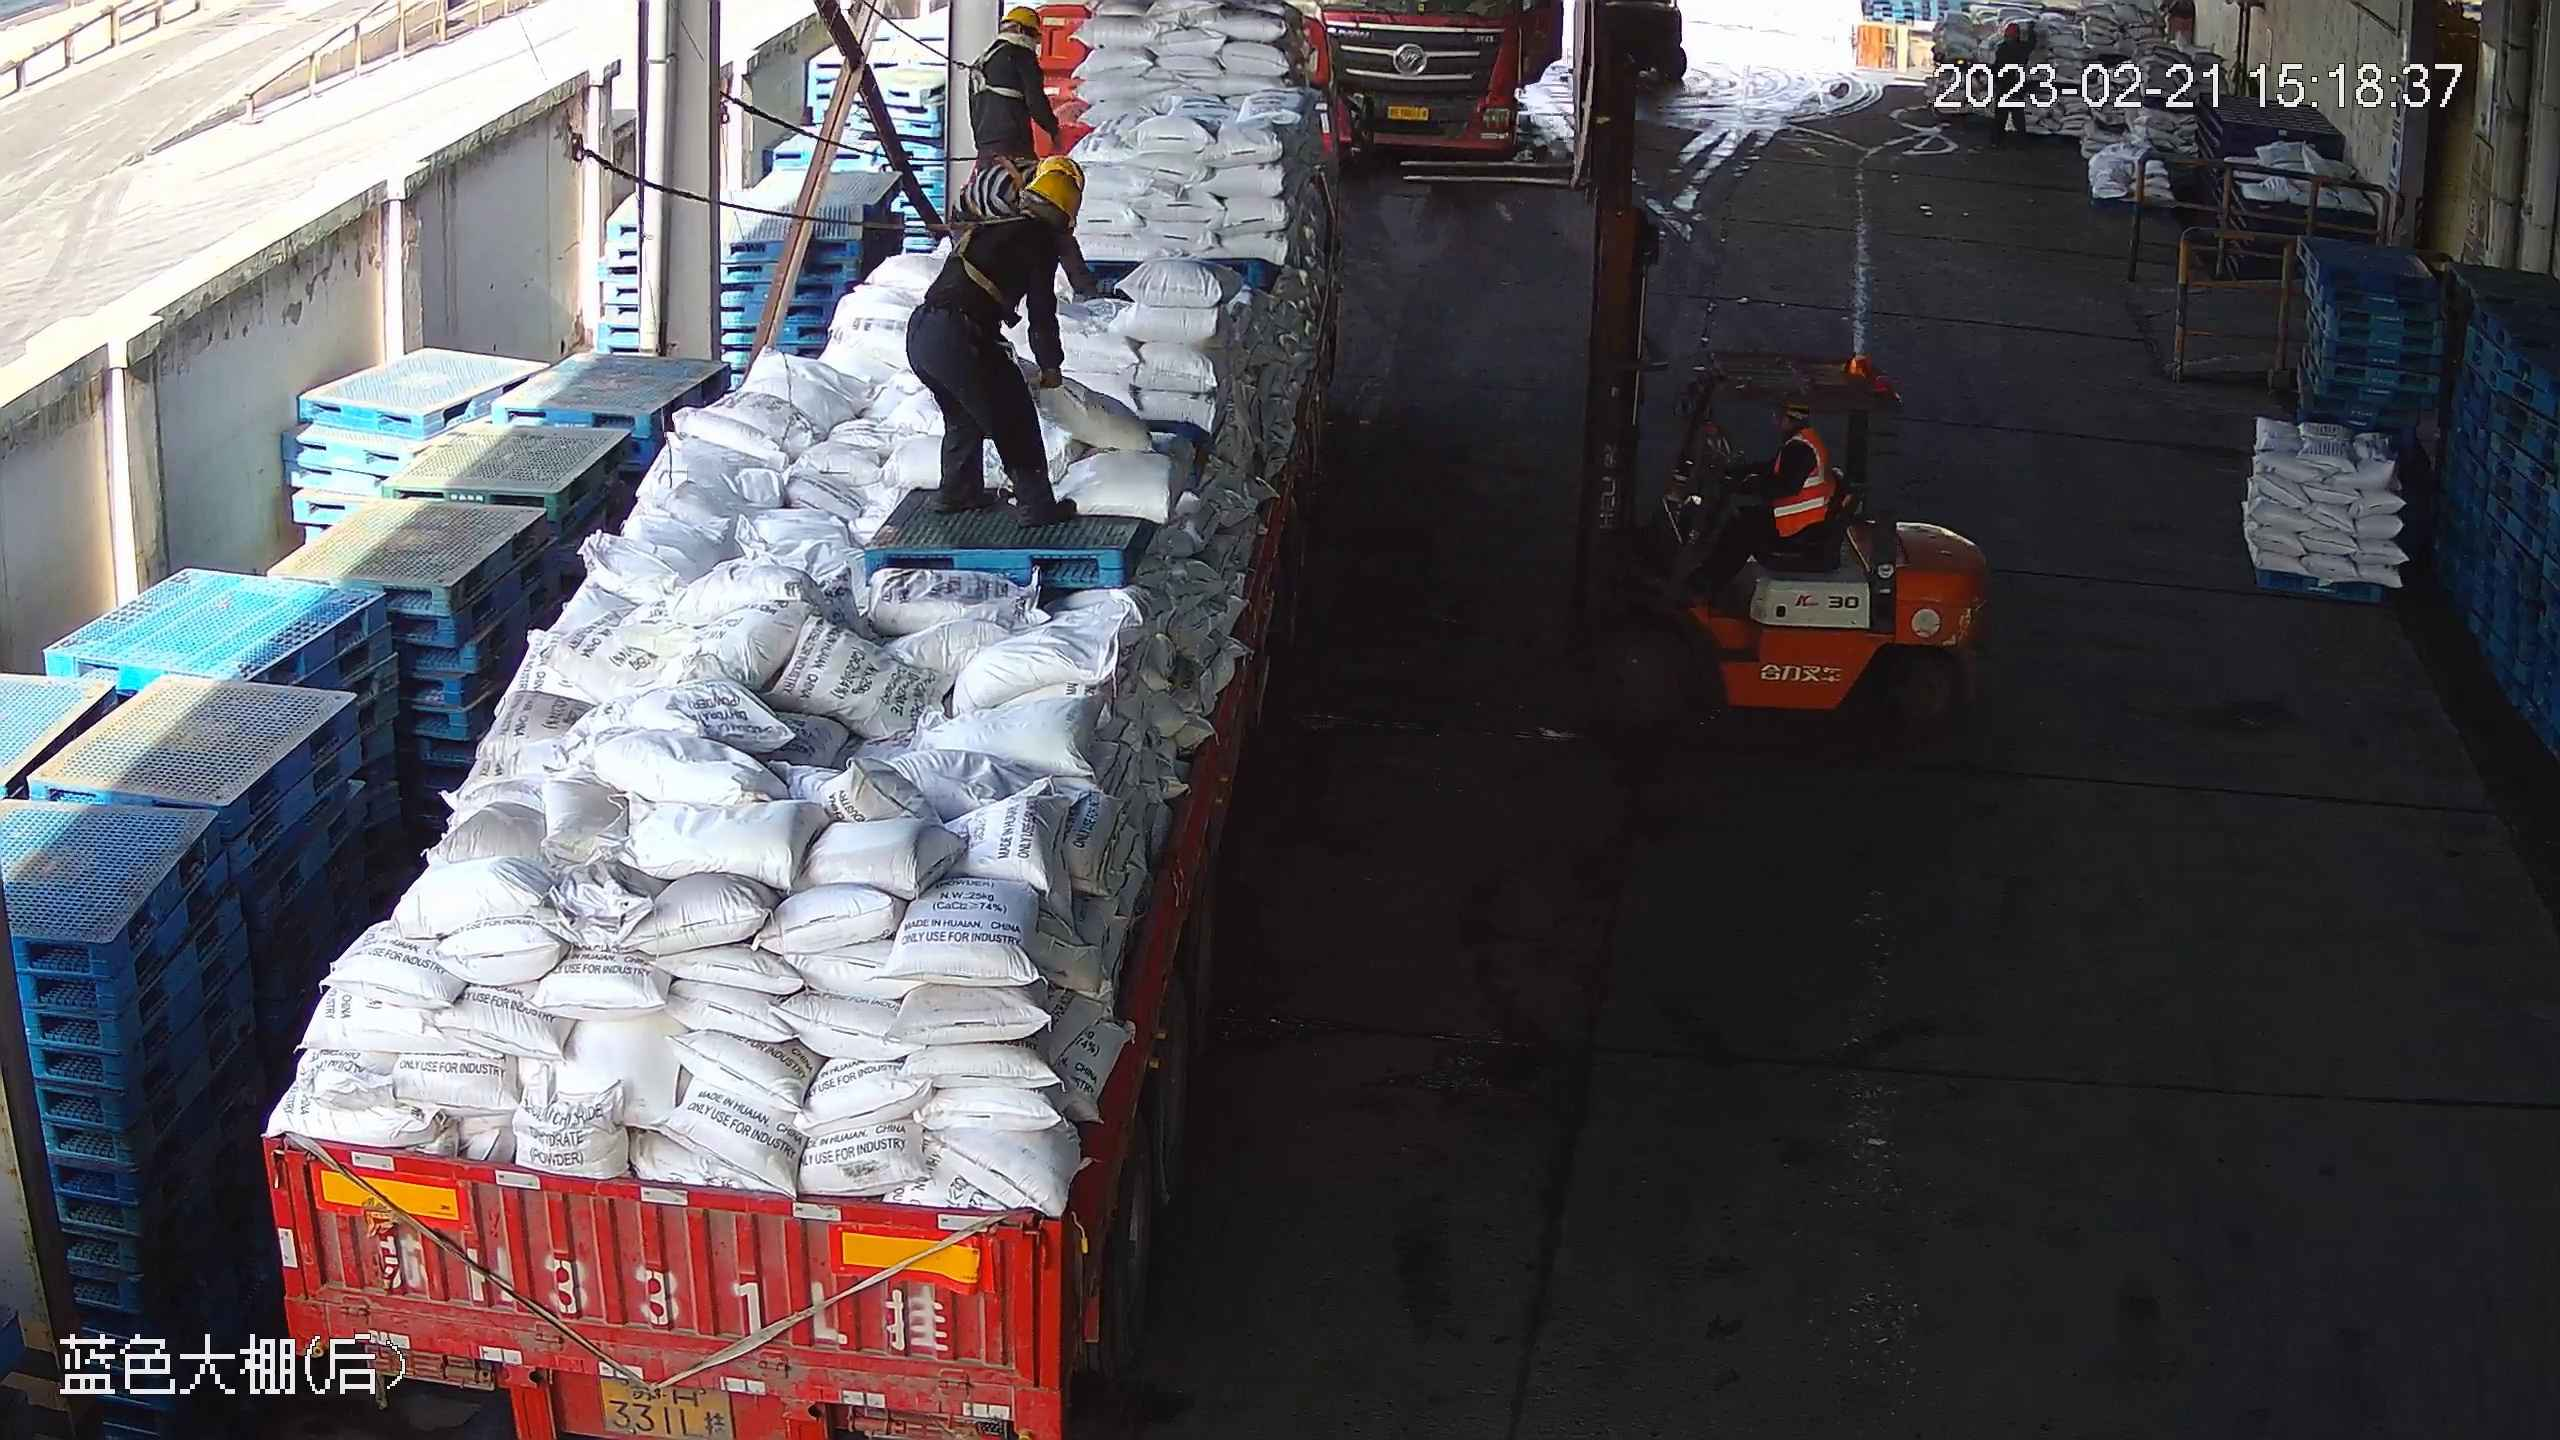belt: (949, 214, 1032, 313), (956, 40, 1023, 101), (985, 154, 1029, 191)
head: (973, 169, 1082, 265), (1000, 156, 1085, 215), (968, 4, 1044, 67)
helmet: (1023, 171, 1081, 219), (1035, 155, 1085, 190), (999, 4, 1044, 35)
people: (904, 169, 1082, 527), (1685, 401, 1836, 600), (967, 4, 1063, 168)
truck: (262, 1, 1343, 1438), (1318, 1, 1563, 168)
